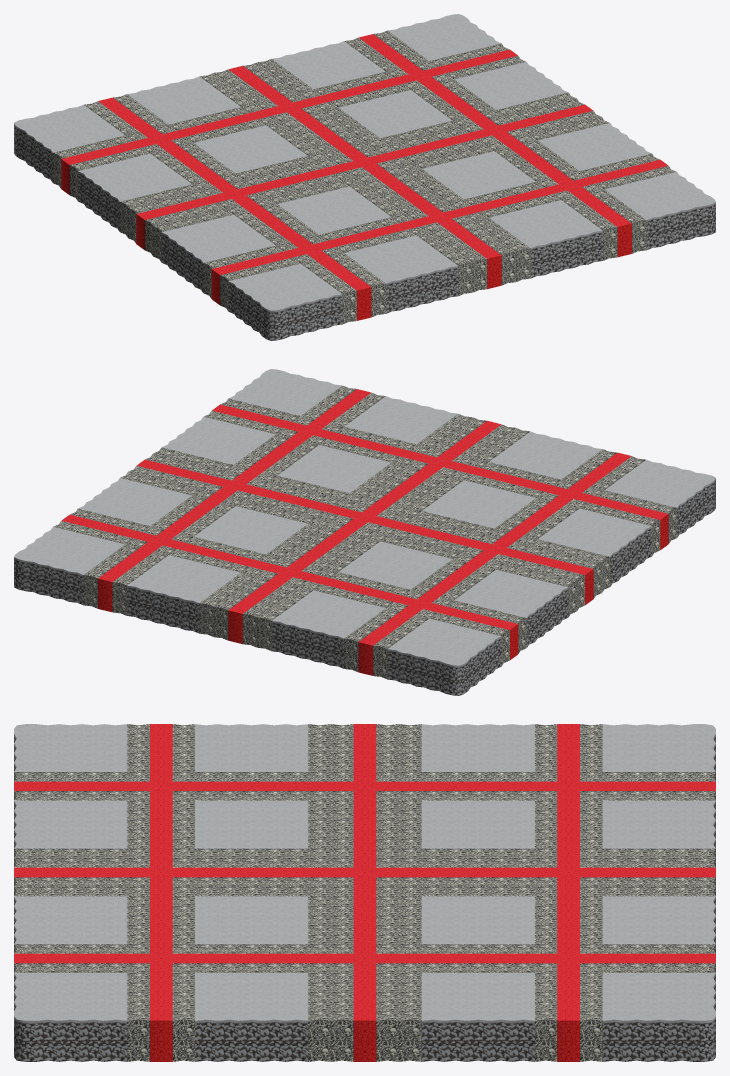
The model's file is Onigokko.fbx.
3 renders of one model, top to bottom at view 1: azimuth 30°, elevation 25°; view 2: azimuth 150°, elevation 25°; view 3: azimuth 270°, elevation 25°, orthographic. The views are drawn at different scales.
Visible parts, largest first — view 1: Terrain; view 2: Terrain; view 3: Terrain.
Part boxes in pixels (x1=…): Terrain: x1=14, y1=14, x2=715, y2=340; Terrain: x1=14, y1=369, x2=715, y2=695; Terrain: x1=14, y1=724, x2=715, y2=1061.
Size of the model in its own units: 31 by 2 by 31.
